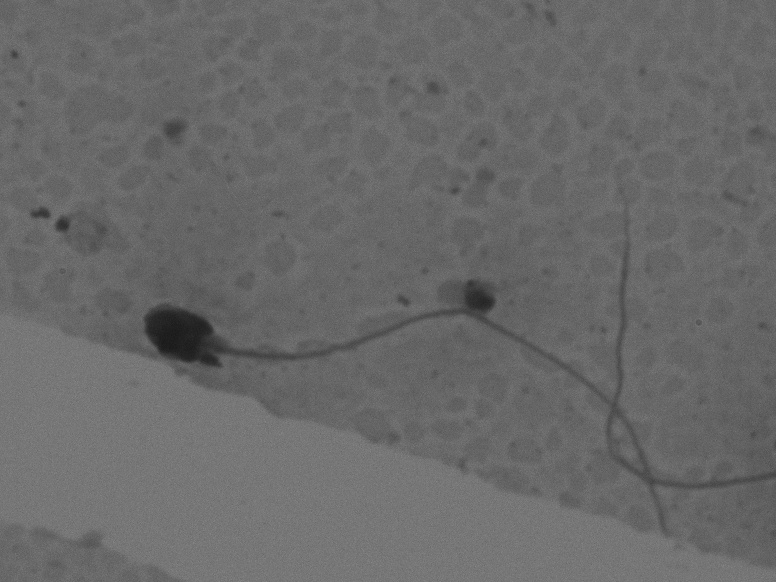Abnormal: (125, 263, 724, 508)
